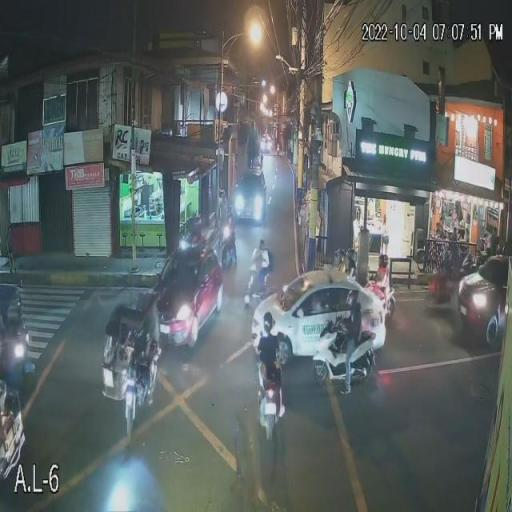helmet: (345, 289, 365, 308), (260, 310, 276, 333), (377, 253, 389, 267), (348, 249, 359, 261), (336, 249, 345, 261)
motorcycle: (310, 326, 382, 386), (258, 370, 285, 444), (369, 280, 397, 320)
rider: (343, 311, 364, 397), (257, 338, 280, 378), (378, 267, 390, 297), (348, 263, 358, 280), (338, 263, 348, 273)
